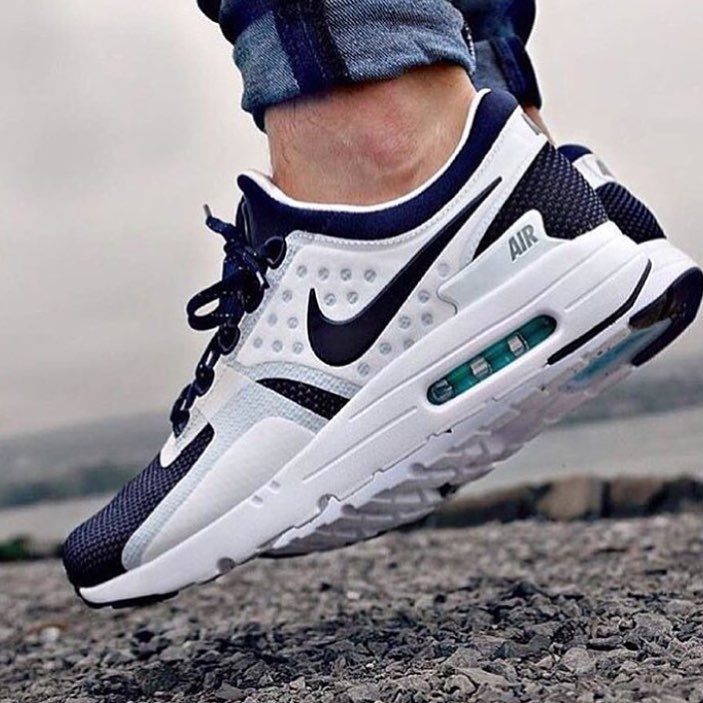sneaker: (47, 23, 660, 641)
